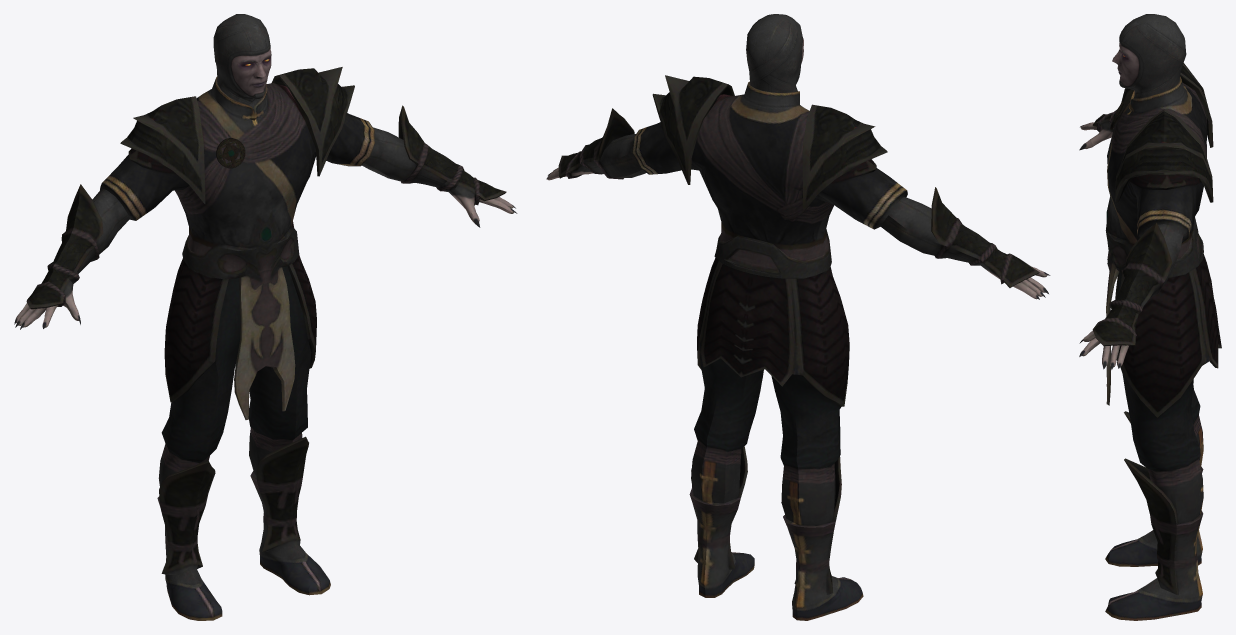
The model's file is raiden.glb.
3 views of the same model, side by side, from view 1: azimuth 30°, elevation 25°; view 2: azimuth 150°, elevation 25°; view 3: azimuth 270°, elevation 25° (orthographic).
Parts seen in each view (by area): view 1: Object_2; view 2: Object_2; view 3: Object_2.
Boxes of the visible parts, left/top/right/bottom form: Object_2: left=14, top=14, right=517, bottom=620; Object_2: left=546, top=14, right=1050, bottom=620; Object_2: left=1079, top=14, right=1221, bottom=620.
Size of the model in its own units: 2.02 by 2.23 by 0.5065.
1 material, 1 textured.
